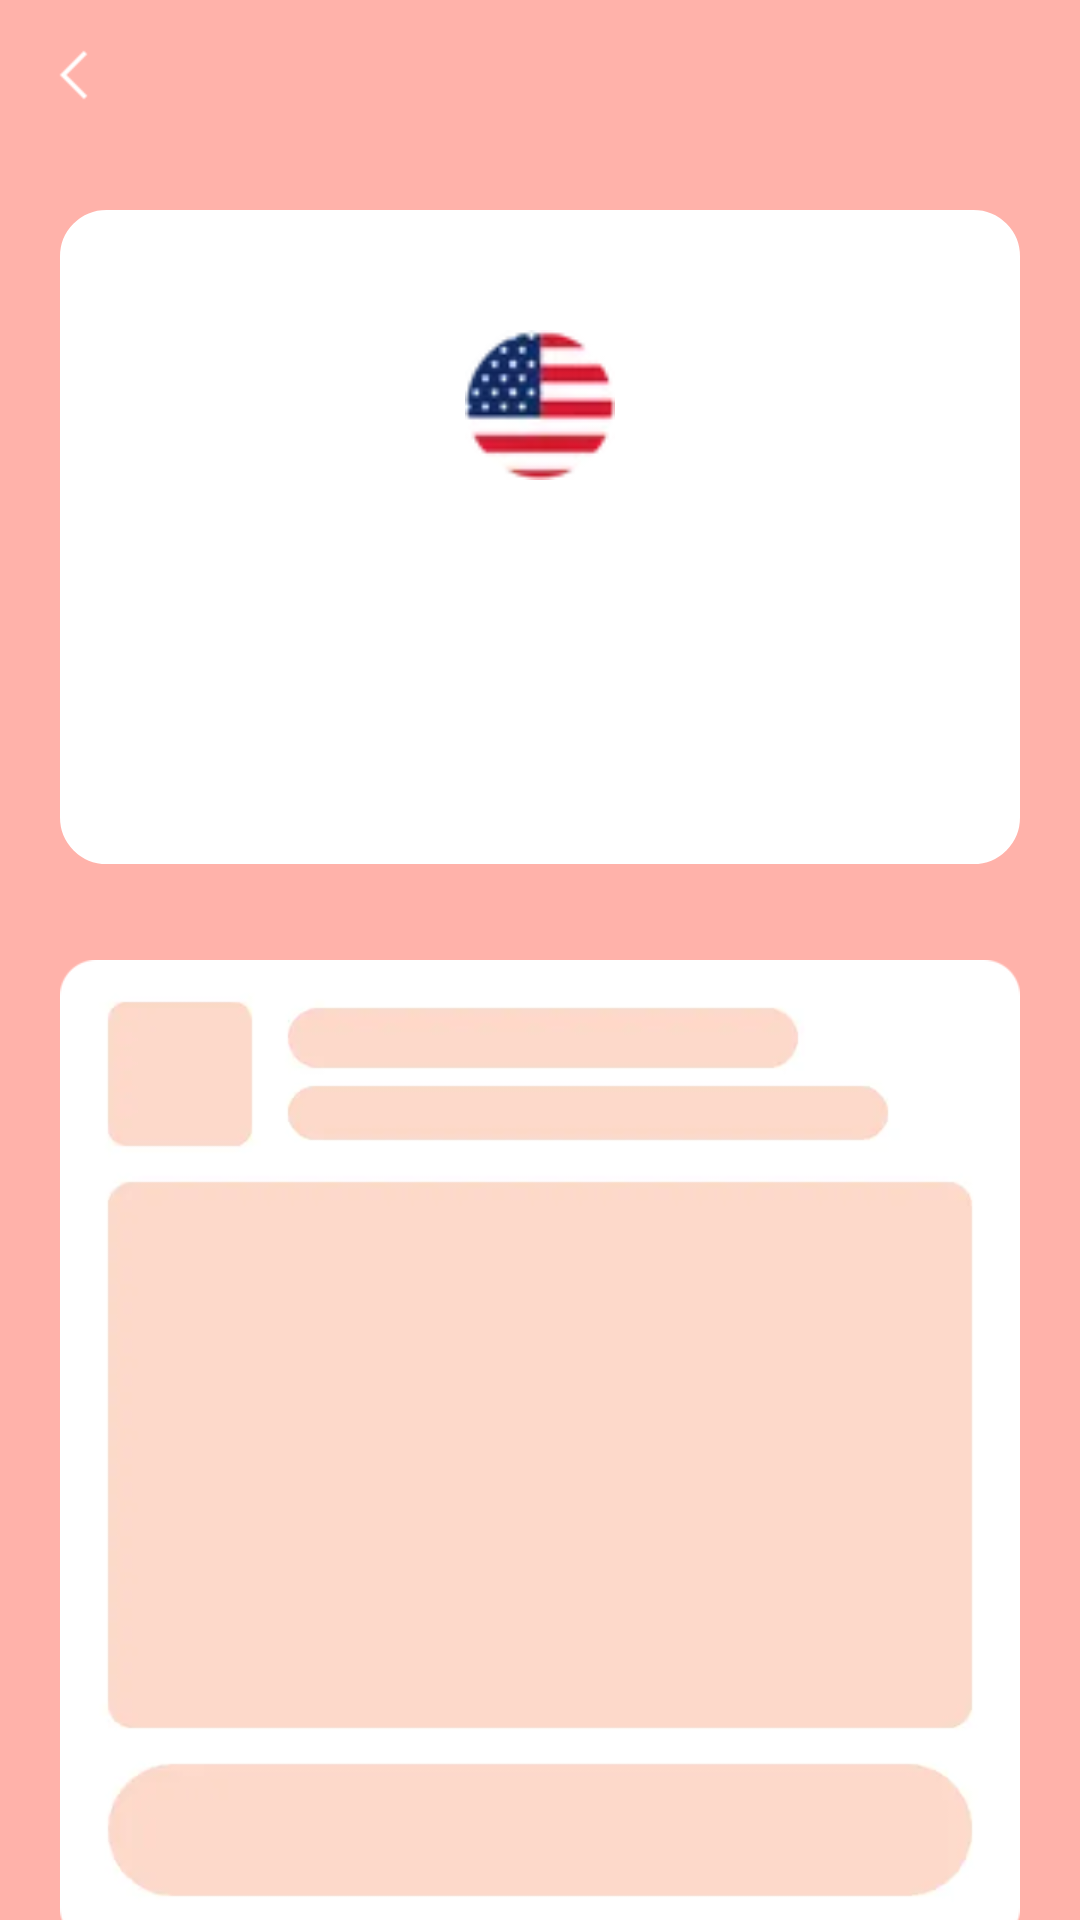

Named icons in this screenshot (1080 x 1920) and their bounding boxes, [x1,y1,x2,y2]:
back: [60,51,87,99]
united states: [465,332,615,480]
